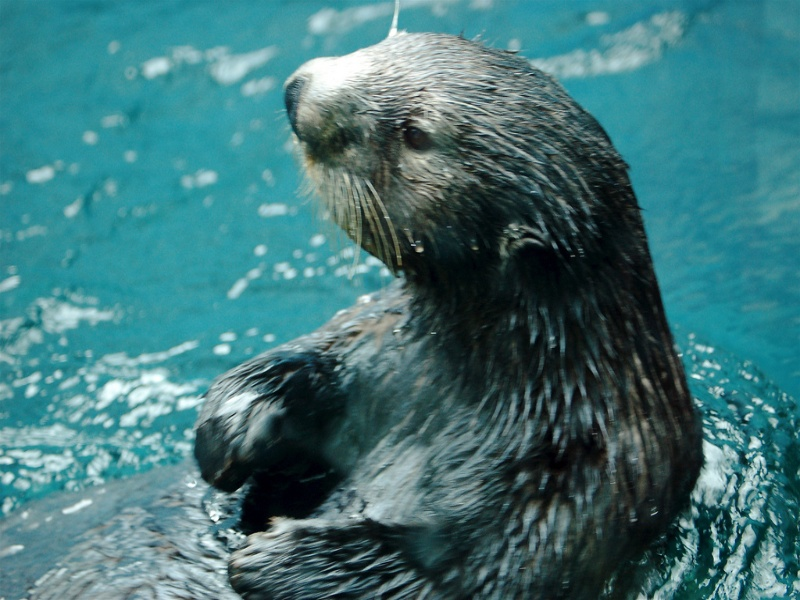minkish: (164, 22, 708, 593)
